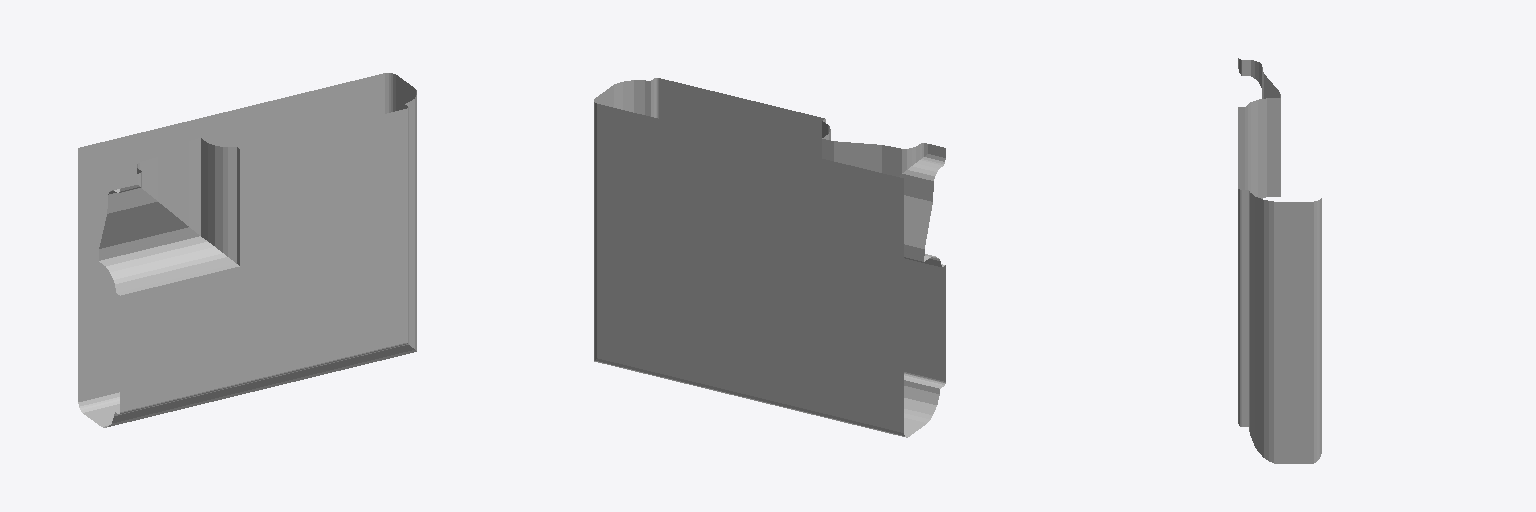
The model's file is original-69.obj.
3 views of the same model, side by side, from view 1: azimuth 30°, elevation 25°; view 2: azimuth 150°, elevation 25°; view 3: azimuth 270°, elevation 25° (orthographic).
Parts seen in each view (by area): view 1: DF_11_BR2/DF_11_BR/mesh26/mesh26-geometry#mesh26-geometry; view 2: DF_11_BR2/DF_11_BR/mesh26/mesh26-geometry#mesh26-geometry; view 3: DF_11_BR2/DF_11_BR/mesh26/mesh26-geometry#mesh26-geometry.
Boxes of the visible parts, box(x1,y1,x2,y2) form: DF_11_BR2/DF_11_BR/mesh26/mesh26-geometry#mesh26-geometry: box(78, 73, 416, 427); DF_11_BR2/DF_11_BR/mesh26/mesh26-geometry#mesh26-geometry: box(594, 78, 945, 437); DF_11_BR2/DF_11_BR/mesh26/mesh26-geometry#mesh26-geometry: box(1238, 58, 1321, 463).
Size of the model in its own units: 0.1169 by 0.0933 by 0.027.